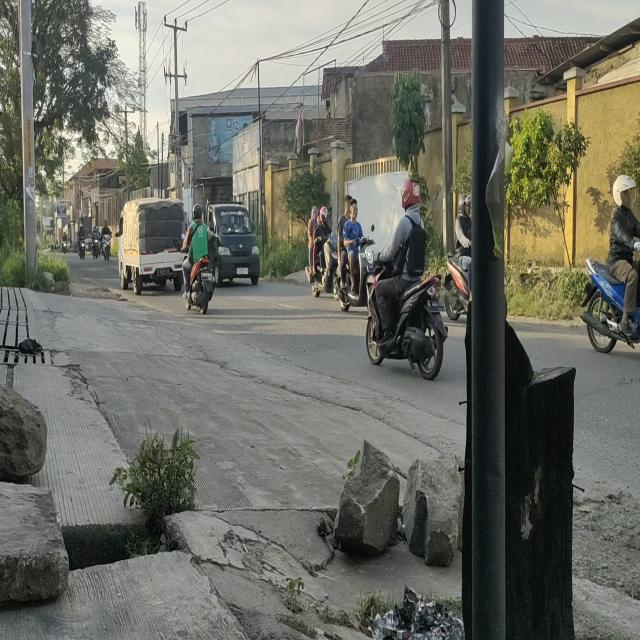helmet: (402, 178, 420, 206), (458, 197, 472, 214), (193, 203, 203, 219), (320, 206, 328, 223)
no-helmet: (349, 198, 358, 218), (310, 205, 318, 221), (345, 194, 352, 212), (317, 210, 320, 224)
